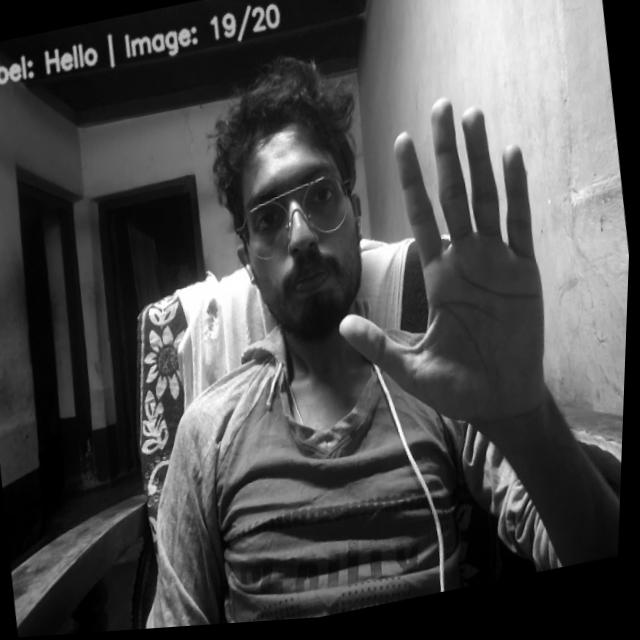Hello: (312, 89, 569, 453)
